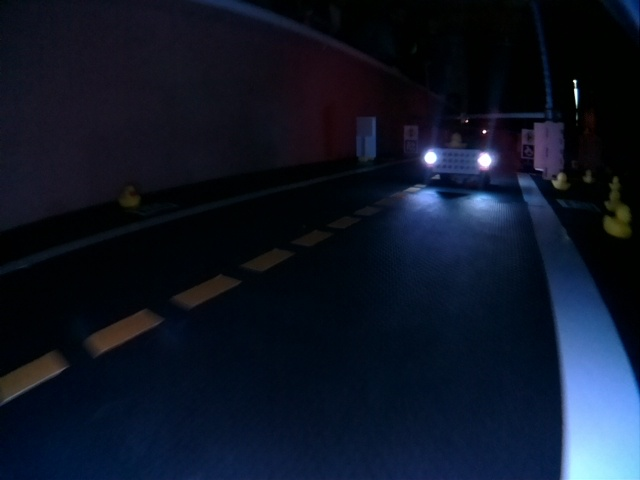Duckie: (604, 210, 630, 238), (118, 186, 139, 207), (552, 173, 570, 190), (608, 176, 617, 186), (583, 171, 593, 179)
Duckiebot: (424, 141, 494, 186)
QR code: (138, 202, 178, 216), (556, 201, 600, 212), (521, 144, 535, 158), (404, 140, 417, 152)
